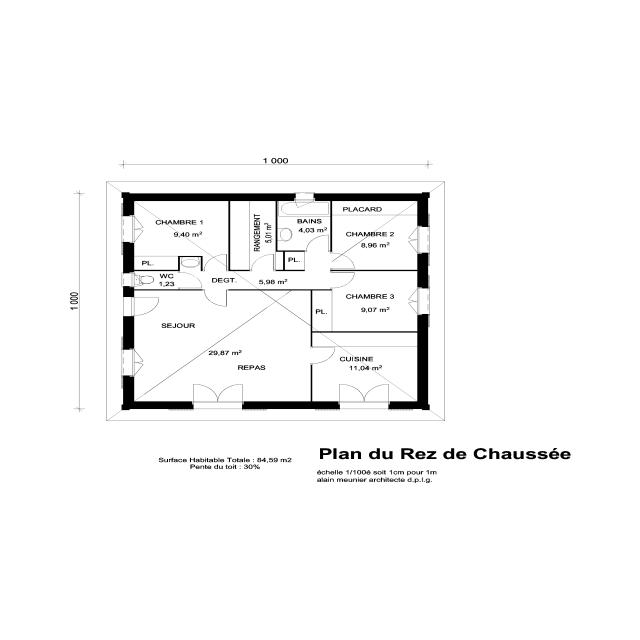door: (339, 380, 388, 410), (193, 383, 242, 411), (134, 290, 156, 322), (312, 341, 332, 371), (307, 228, 327, 257), (207, 283, 226, 312), (332, 266, 352, 292), (130, 207, 142, 249), (253, 249, 273, 274), (209, 249, 228, 274)
window: (417, 284, 428, 318), (417, 224, 428, 256), (124, 207, 132, 250), (125, 342, 133, 383), (294, 189, 312, 207), (124, 268, 134, 293)
zone: (135, 289, 310, 400), (311, 331, 418, 402), (134, 200, 228, 269), (331, 200, 416, 270), (333, 270, 417, 331), (231, 200, 276, 269), (278, 201, 329, 251), (136, 269, 209, 288)
